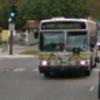buses: (34, 17, 98, 77)
